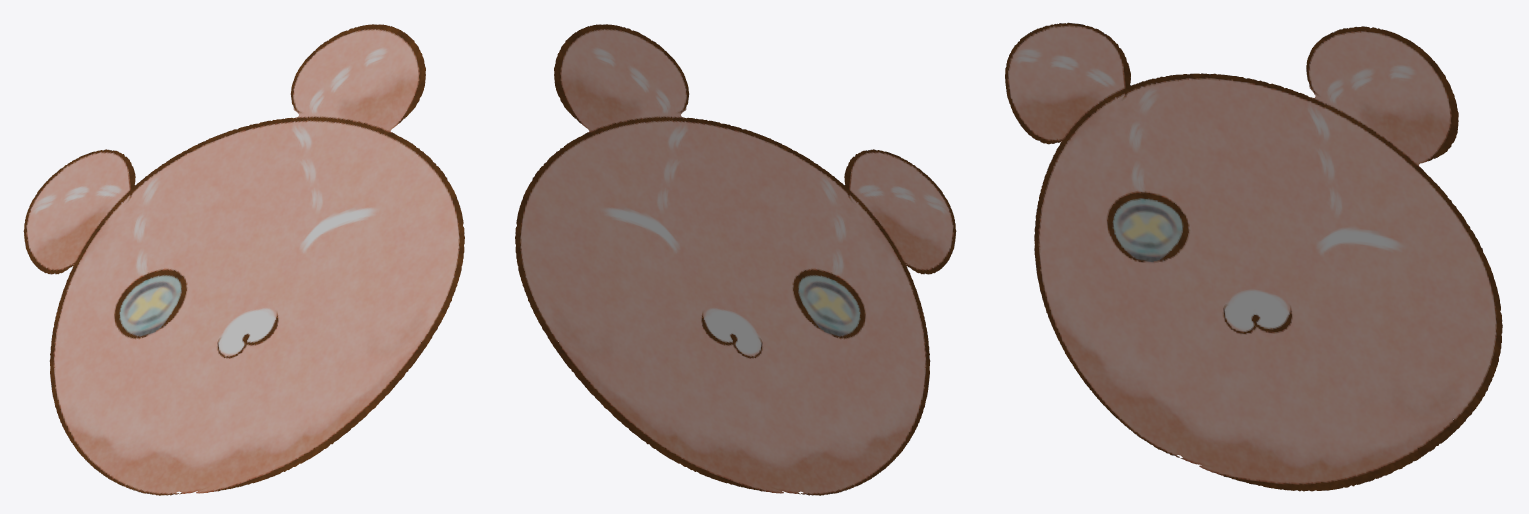
Rendered from kuma_h_after.fbx.
3 views of the same model, side by side, from view 1: azimuth 30°, elevation 25°; view 2: azimuth 150°, elevation 25°; view 3: azimuth 330°, elevation 25° (orthographic). The views are drawn at different scales.
Parts seen in each view (by area): view 1: head; view 2: head; view 3: head.
Boxes of the visible parts, x1,y1,x2,y2 form: head: (23,24,464,495); head: (515,24,956,495); head: (1005,22,1502,491).
Bounding box in the file's own units: 783 × 732 × 5.05e-05.
